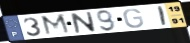3: (23, 16, 43, 37)
9: (96, 9, 118, 32)
G: (122, 8, 146, 29)
I: (157, 5, 168, 27)
M: (39, 13, 73, 37)
N: (69, 11, 98, 34)
